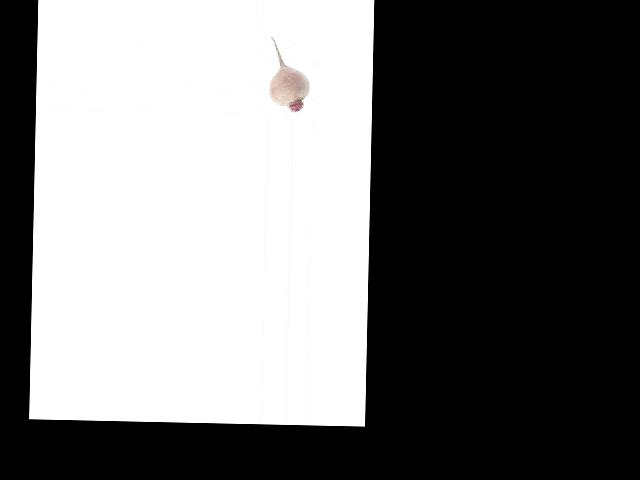beet: (268, 37, 312, 112)
